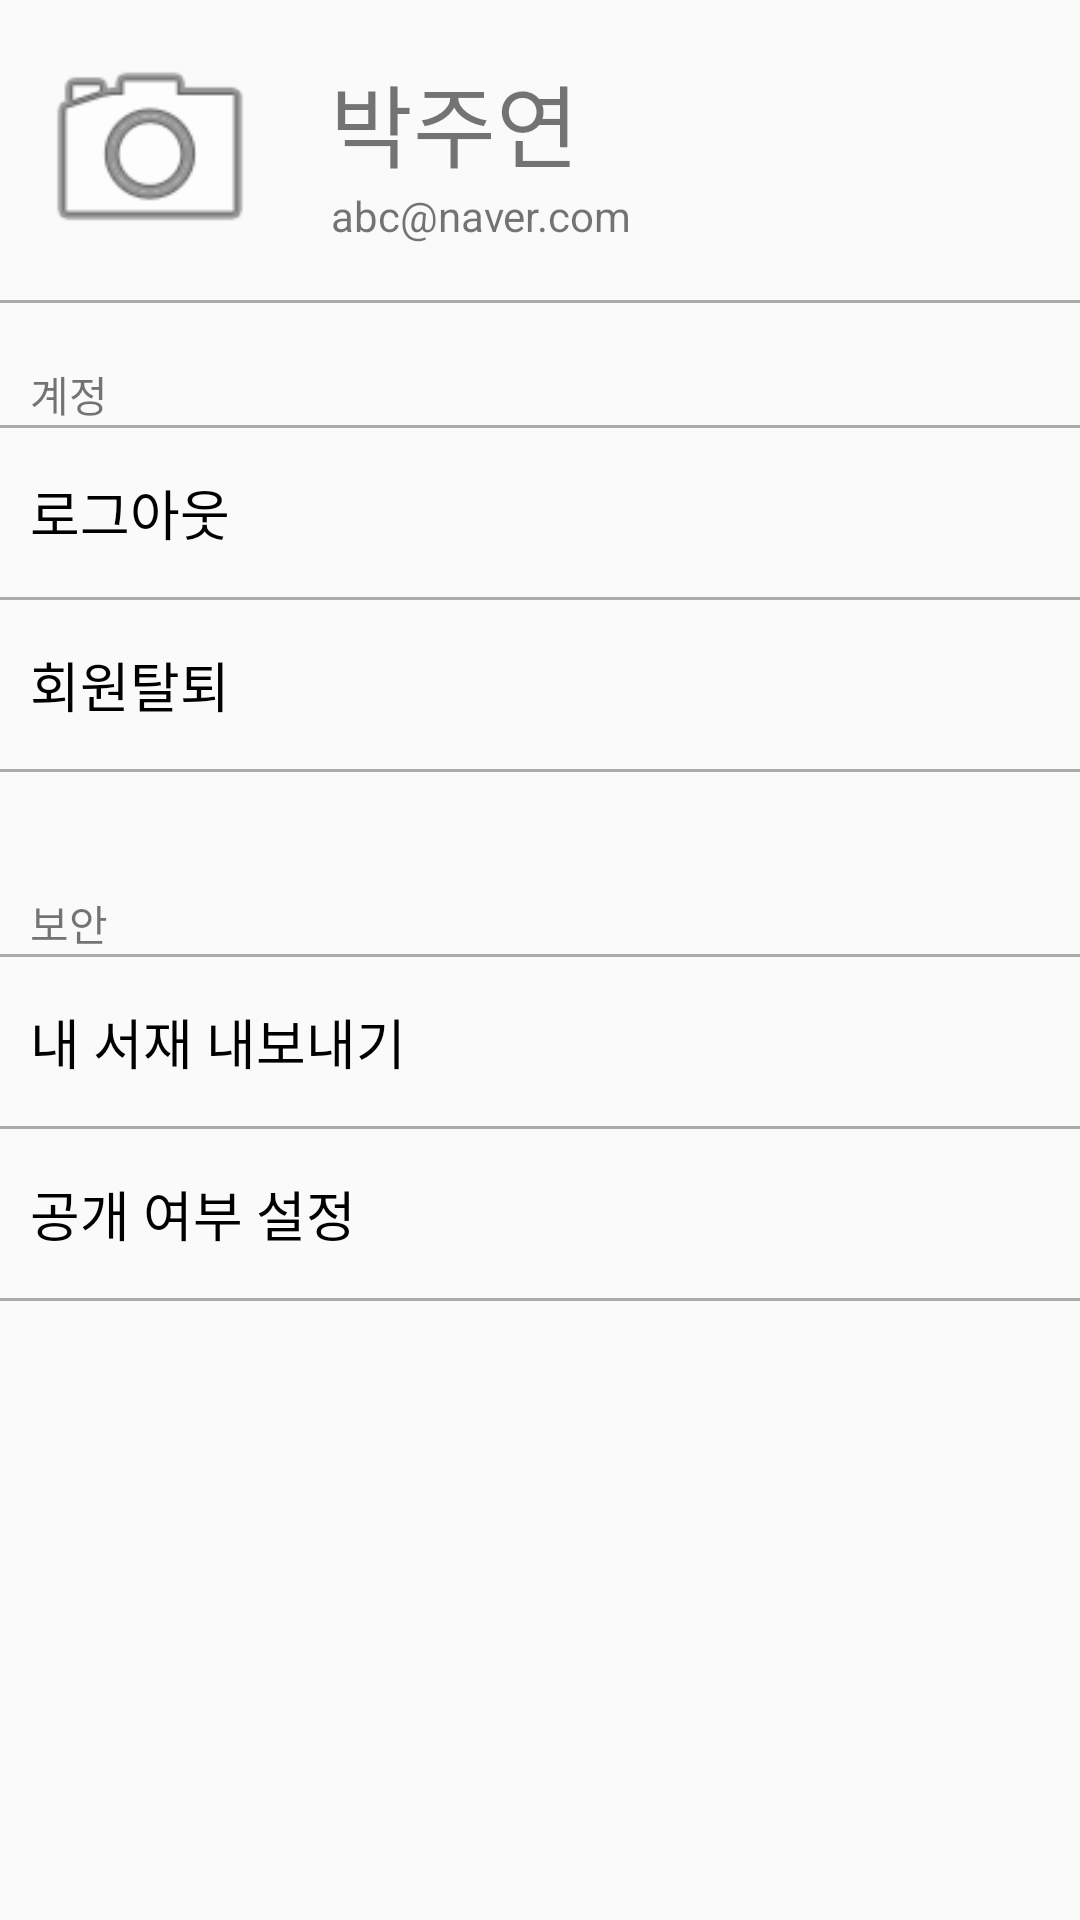

Screen size 1080px×1920px. Icon name, then its box in pixels as (x1, y1, x2, y2):
camera: (57, 72, 243, 220)
